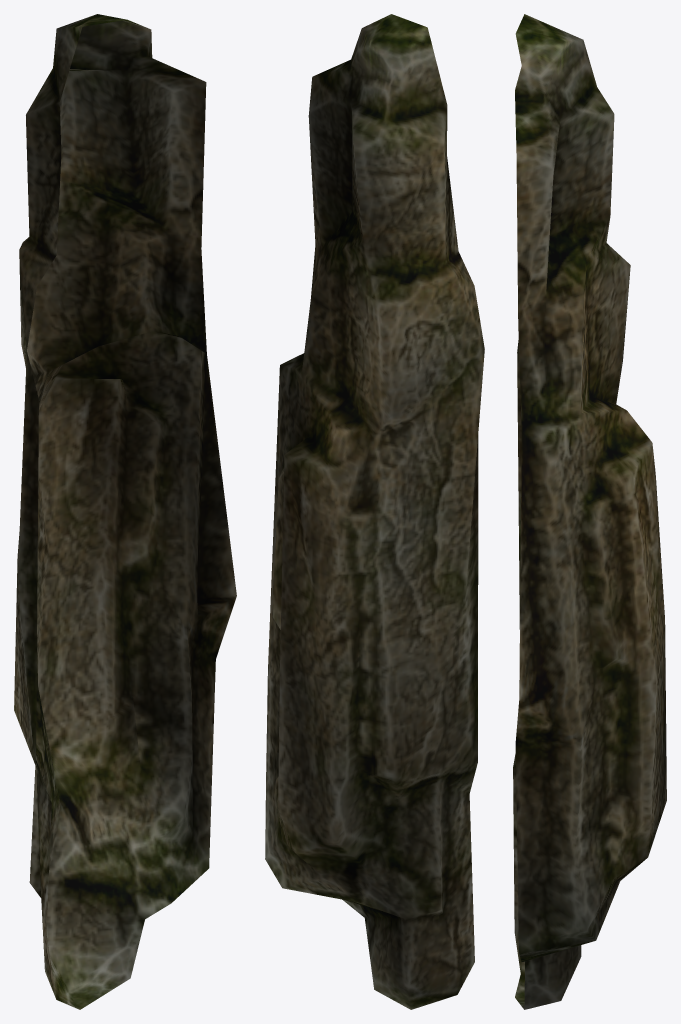
The model's file is MEP_Rock_04_b.fbx.
3 renders of one model, left to right at view 1: azimuth 30°, elevation 25°; view 2: azimuth 150°, elevation 25°; view 3: azimuth 270°, elevation 25°, orthographic.
Parts seen in each view (by area): view 1: MEP_Rock_04_b; view 2: MEP_Rock_04_b; view 3: MEP_Rock_04_b.
Boxes of the visible parts, x1,y1,x2,y2 form: MEP_Rock_04_b: [14, 14, 236, 1009]; MEP_Rock_04_b: [265, 14, 484, 1009]; MEP_Rock_04_b: [513, 14, 666, 1009].
Size of the model in its own units: 3.37 by 15.11 by 2.13.
